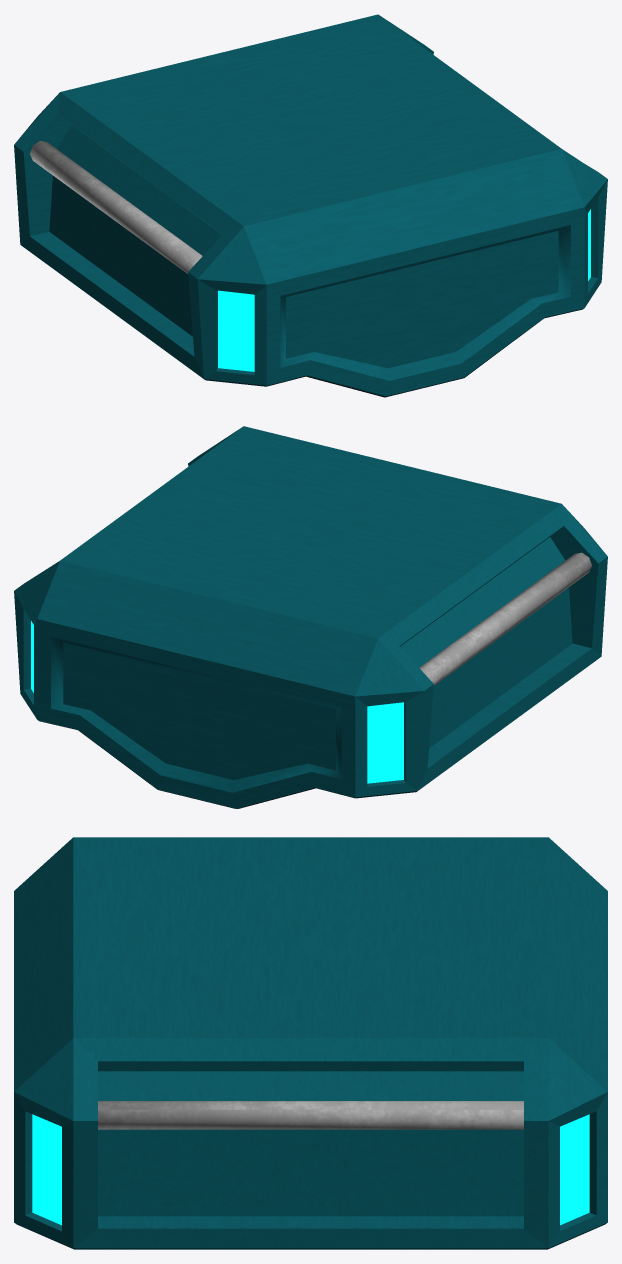
Rendered from Lid - Texture.gltf.
3 renders of one model, top to bottom at view 1: azimuth 30°, elevation 25°; view 2: azimuth 150°, elevation 25°; view 3: azimuth 270°, elevation 25°, orthographic. The views are drawn at different scales.
Parts seen in each view (by area): view 1: Cube.001; view 2: Cube.001; view 3: Cube.001.
Boxes of the visible parts, x1,y1,x2,y2 form: Cube.001: (14, 14, 607, 397); Cube.001: (14, 426, 607, 808); Cube.001: (14, 837, 607, 1249).
Size of the model in its own units: 2.06 by 0.8861 by 2.
1 material, 1 textured.
